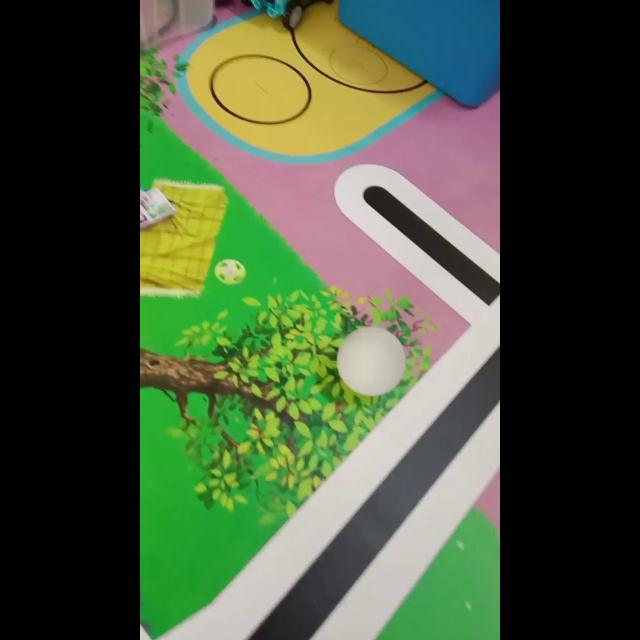white ball: (334, 325, 406, 397)
